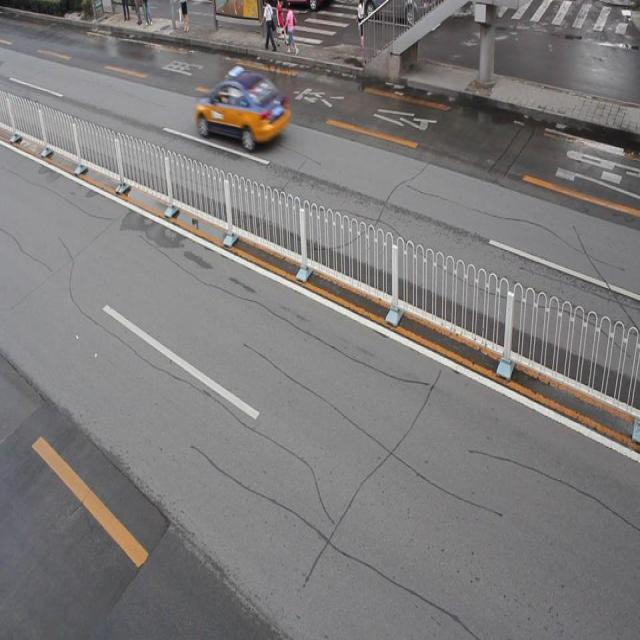car: (196, 70, 290, 149)
